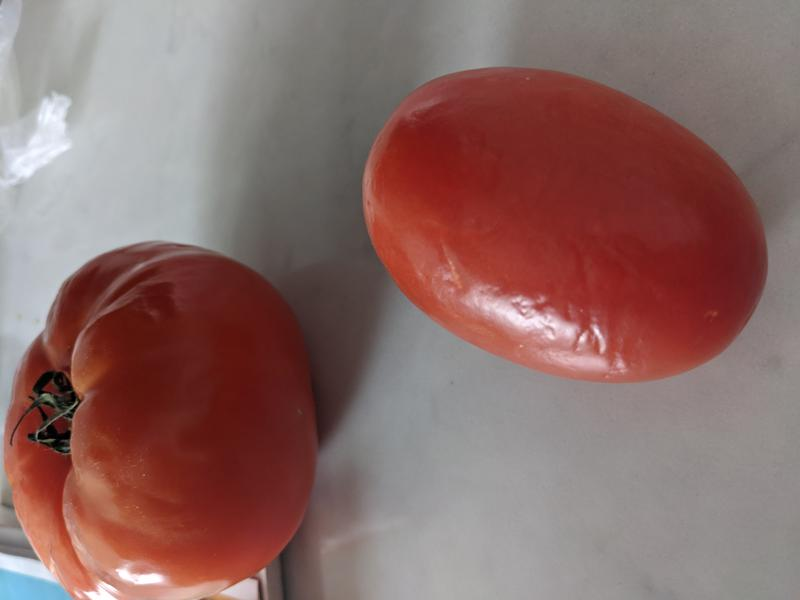tomato: (361, 66, 769, 383), (2, 241, 319, 600)
